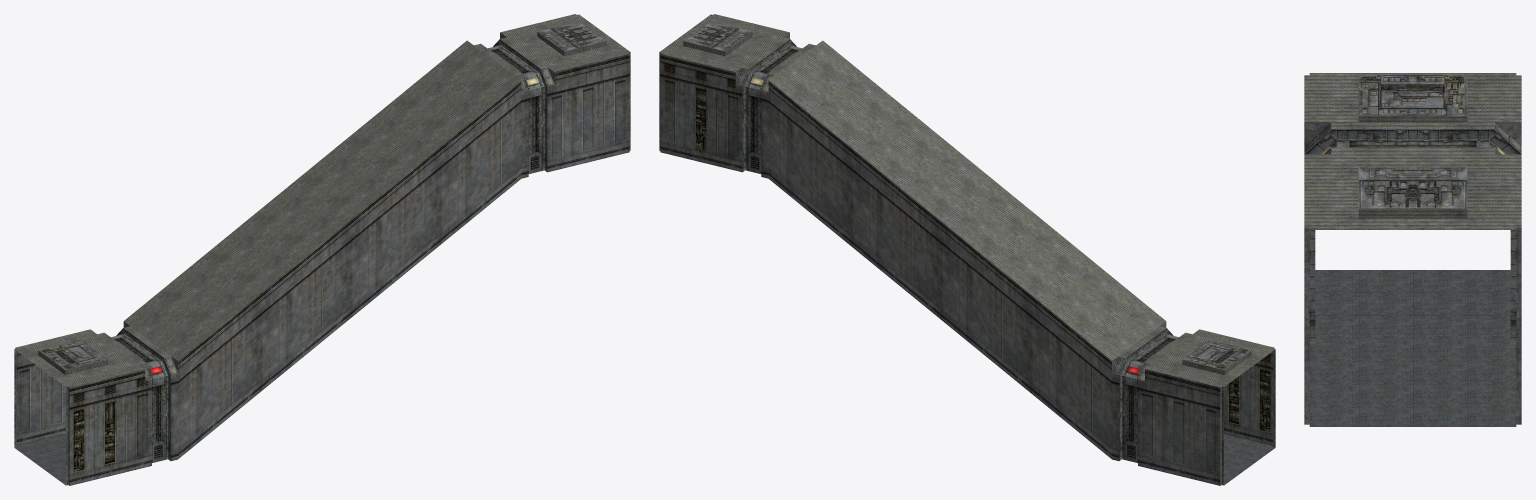
Rendered from poi_all_impl_bunker_abandoned_s01_r28_ramp9_mesh.fbx.
The picture shows the model from 3 angles, left to right: view 1: azimuth 30°, elevation 25°; view 2: azimuth 150°, elevation 25°; view 3: azimuth 270°, elevation 25°; orthographic projection. The views are drawn at different scales.
Visible parts, largest first — view 1: mesh_node; view 2: mesh_node; view 3: mesh_node.
Boxes of the visible parts, box(x1,y1,x2,y2) form: mesh_node: box(14, 14, 630, 485); mesh_node: box(659, 14, 1275, 485); mesh_node: box(1304, 73, 1521, 426).
Bounding box in the file's own units: 24 × 12.2 × 4.
